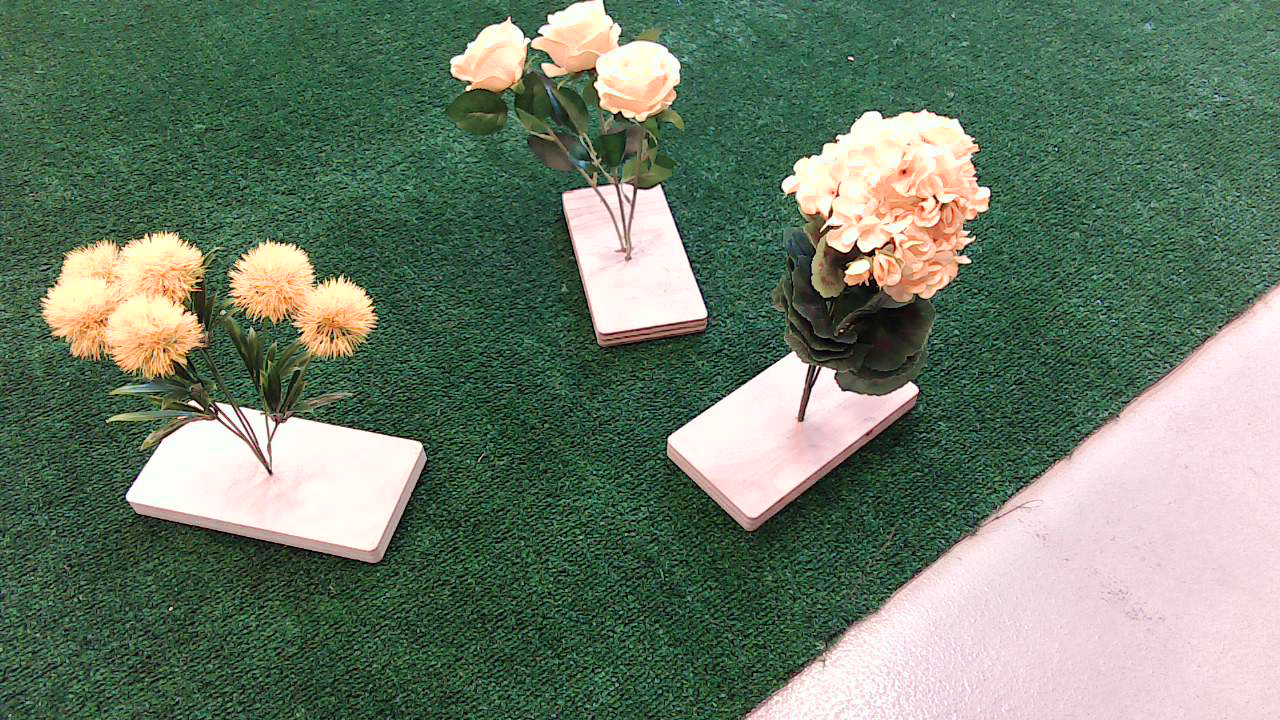dandelion: (35, 234, 421, 463)
geranium: (778, 110, 1001, 413)
rose: (437, 7, 708, 218)
